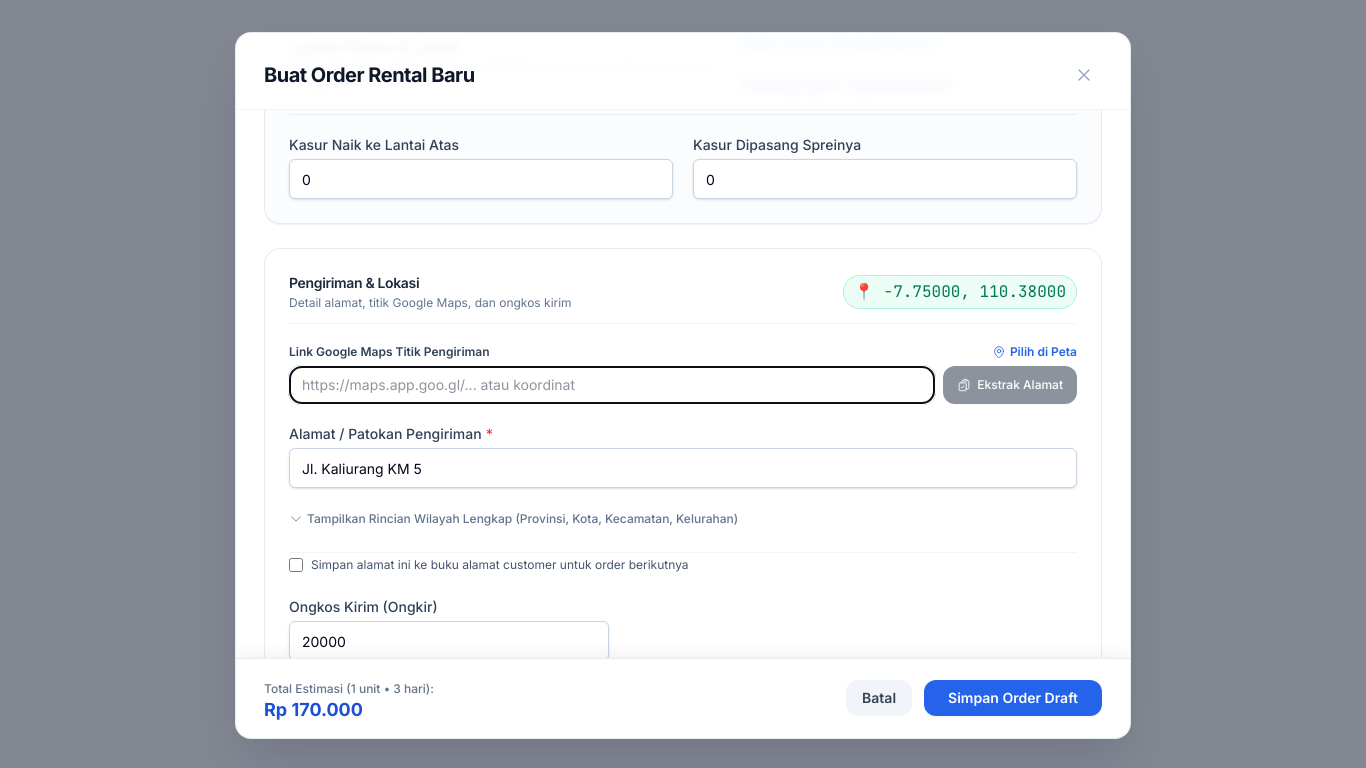
Scenario: CreateOrderModal - MapSelectorModal integration and focus management › blurs active element and opens MapSelectorModal with default z-[10000] when "Pilih di Peta" is clicked
(page scrolled)
Click "Pilih di Peta"
Click the button "Pilih di Peta" at (1034, 352), box [992,344,1077,360]
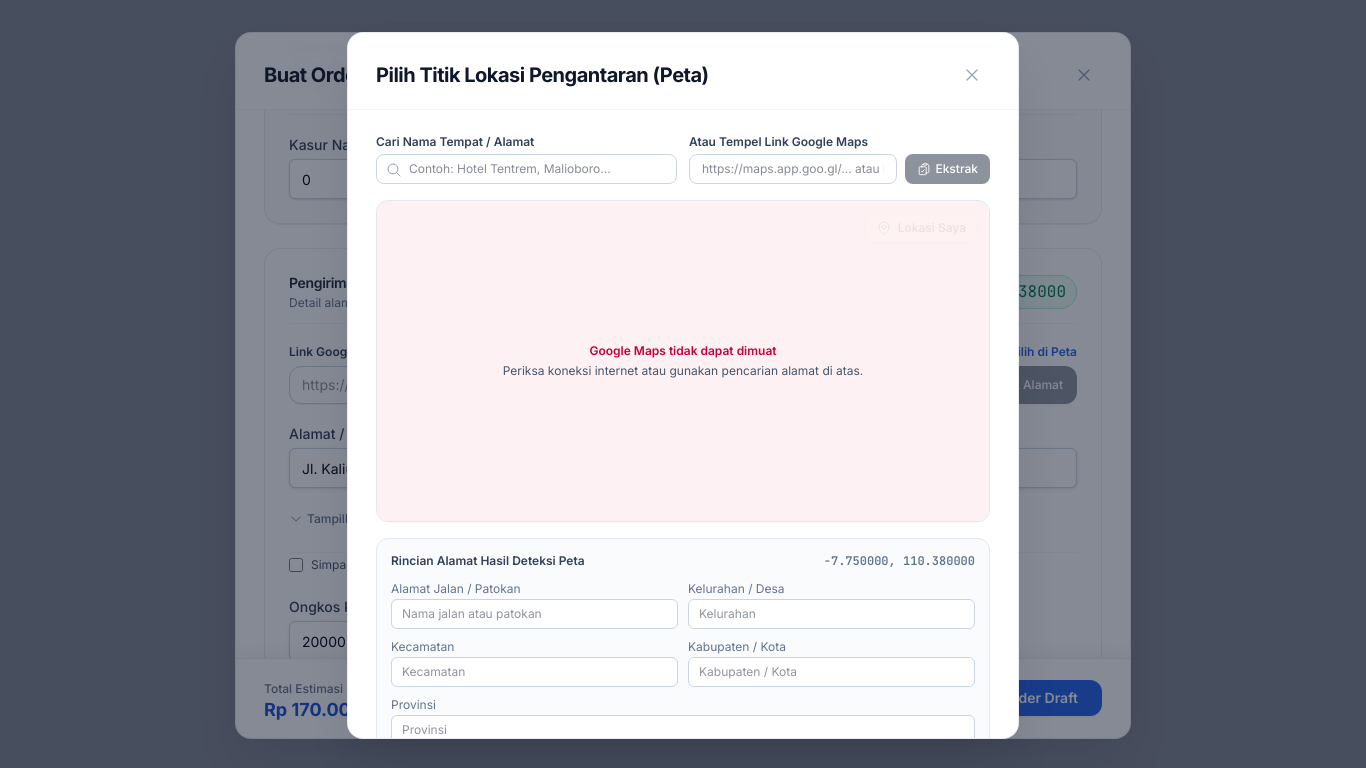
Check: the heading "Pilih Titik Lokasi Pengantaran (Peta)" is shown, box [376,61,709,89]
Check: the dialog that starts with "Pilih Titik Lokasi Pengantaran (Peta)" is shown
